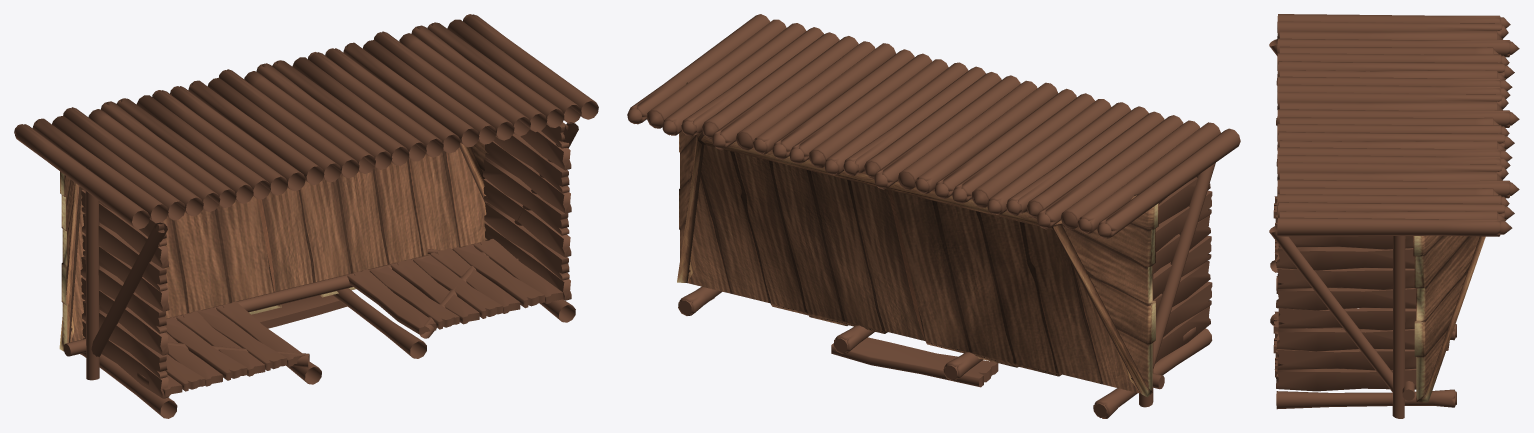
Rendered from Fort_Barracks.FBX.
The picture shows the model from 3 angles, left to right: view 1: azimuth 30°, elevation 25°; view 2: azimuth 150°, elevation 25°; view 3: azimuth 270°, elevation 25°; orthographic projection. The views are drawn at different scales.
Visible parts, largest first — view 1: Fort_Barracks, Fort_Barracks_roof, Fort_Barracks1, Fort_Barracks2; view 2: Fort_Barracks_roof, Fort_Barracks, Fort_Barracks2, Fort_Barracks1; view 3: Fort_Barracks, Fort_Barracks1, Fort_Barracks_roof, Fort_Barracks2.
Boxes of the visible parts, box(x1,y1,x2,y2) form: Fort_Barracks: box(14, 14, 598, 356); Fort_Barracks_roof: box(59, 50, 504, 351); Fort_Barracks1: box(332, 122, 578, 358); Fort_Barracks2: box(80, 166, 321, 418); Fort_Barracks_roof: box(677, 82, 1158, 397); Fort_Barracks: box(627, 14, 1240, 389); Fort_Barracks2: box(943, 163, 1215, 418); Fort_Barracks1: box(678, 286, 874, 353); Fort_Barracks: box(1277, 14, 1519, 400); Fort_Barracks1: box(1269, 225, 1456, 418); Fort_Barracks_roof: box(1413, 235, 1485, 402); Fort_Barracks2: box(1269, 39, 1366, 293).
Size of the model in its own units: 8.94 by 4.06 by 4.47.
